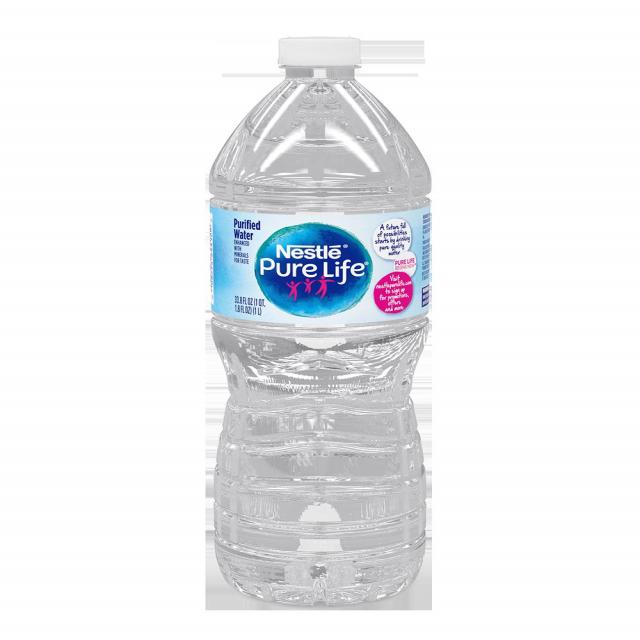bottle: (179, 14, 446, 610)
